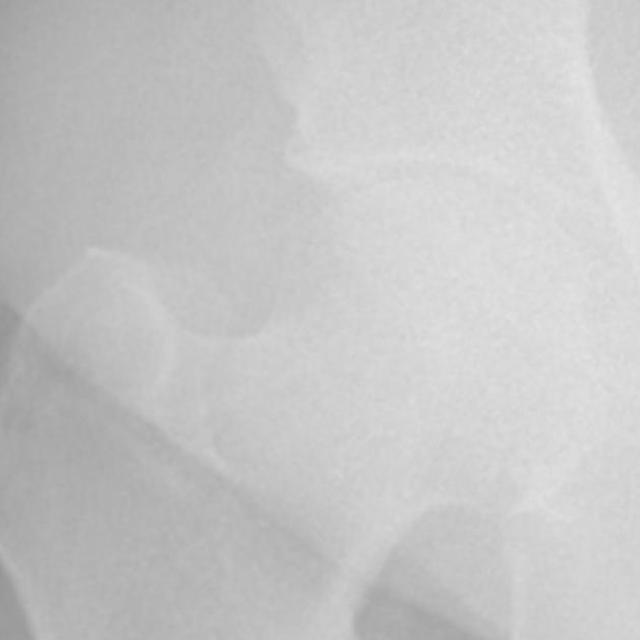Fitted_femural_head: (368, 176, 432, 368)
